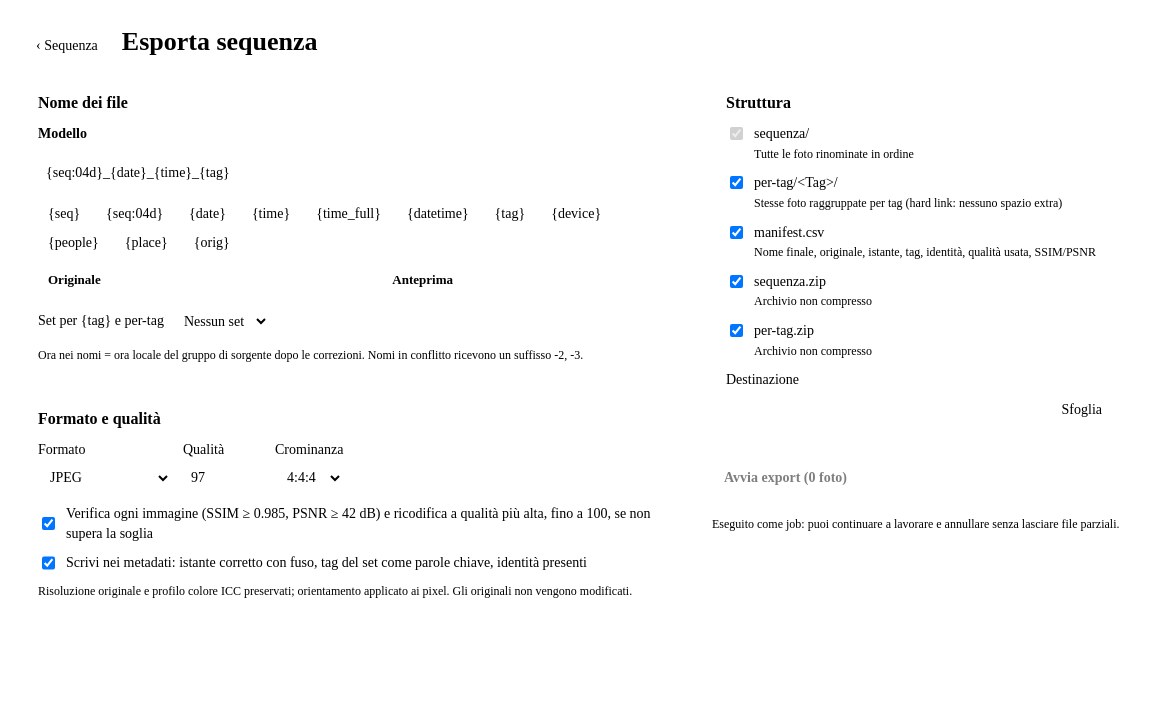
it: starts the export as a job with the chosen options
Click the button "Sfoglia".
click(1082, 410)  # box [1050,394,1114,426]
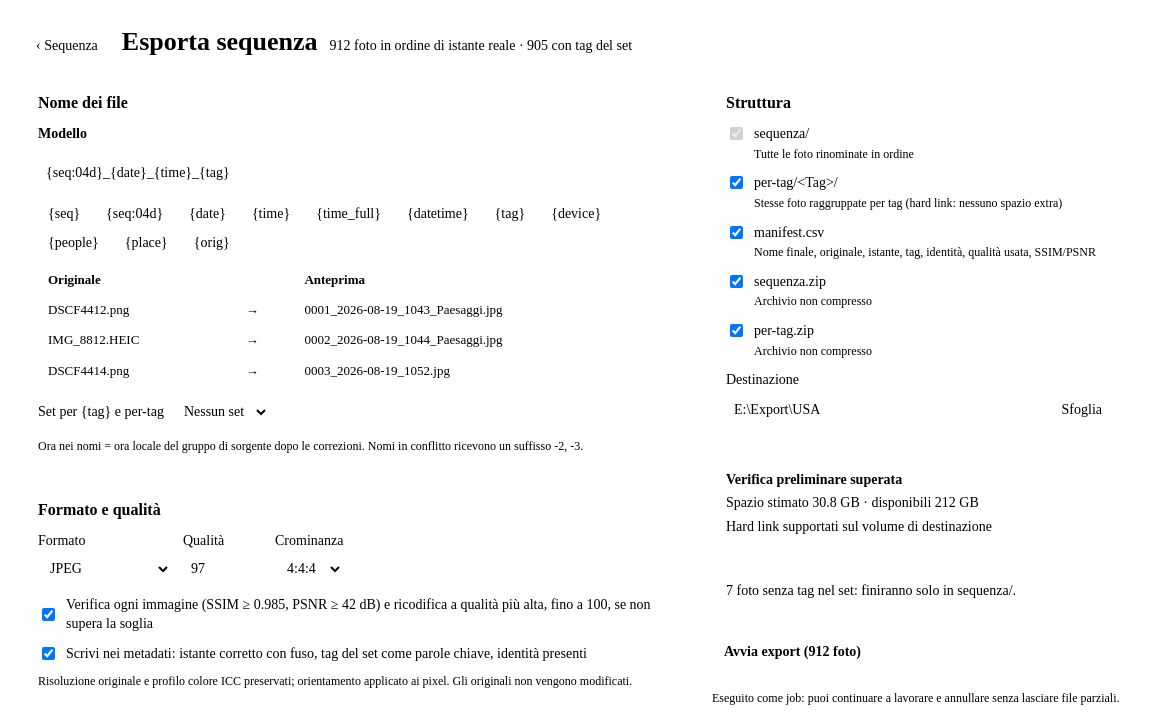
Now the text "Verifica preliminare superata" is shown, box [726,472,902,487]
Now the text "7 foto senza tag nel set: finiranno solo in sequenza/." is shown, box [726,582,1016,598]
Now the button "Avvia export (912 foto)" is enabled
Click the button "Avvia export (912 foto)".
click(792, 652)  # box [712,630,1128,674]
(page scrolled)
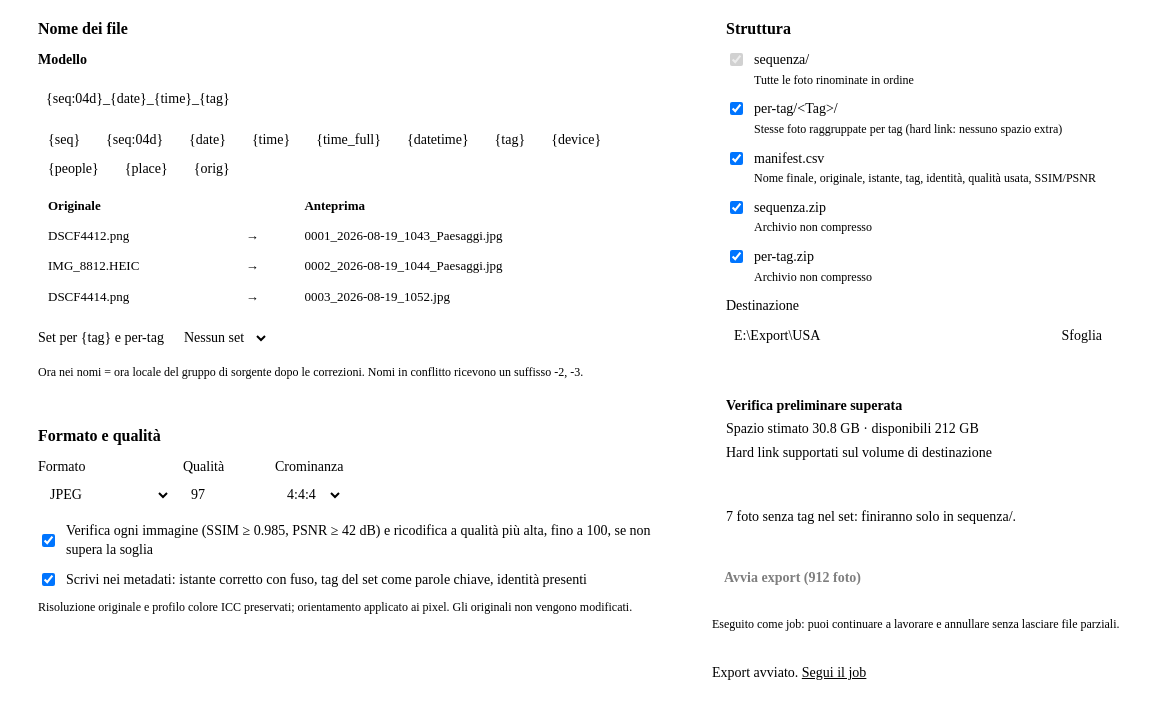
Now the text "Export avviato." is shown, box [712,665,798,680]
